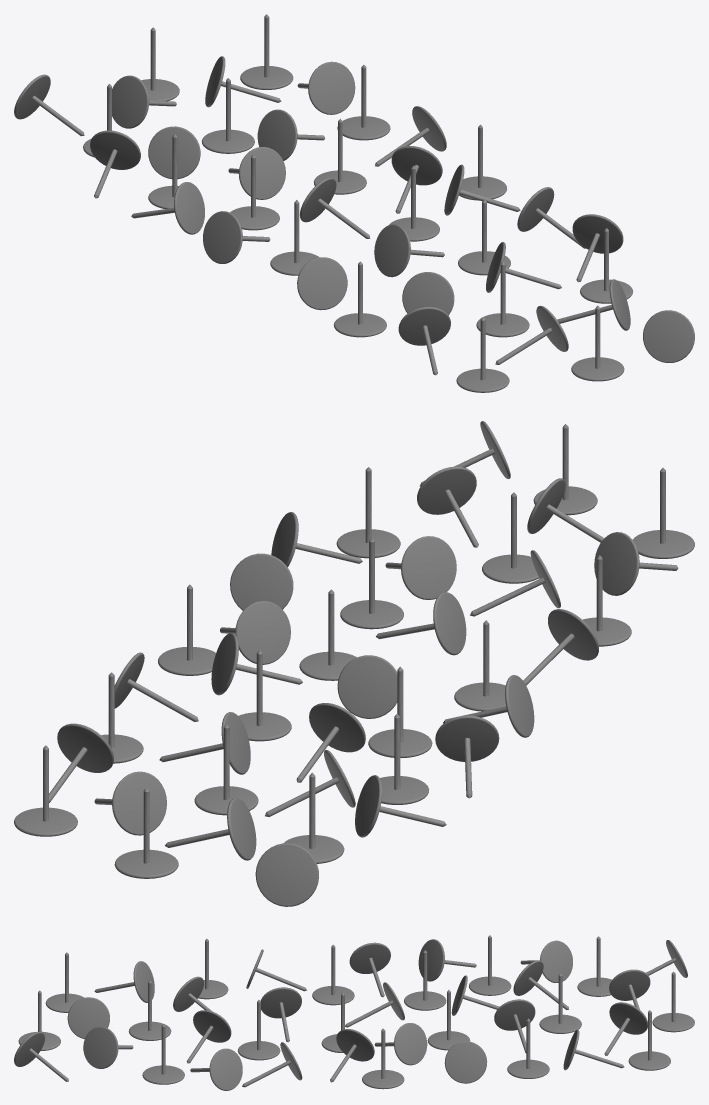
The model's file is itemClou.fbx.
3 views of the same model, one above another, from view 1: azimuth 30°, elevation 25°; view 2: azimuth 150°, elevation 25°; view 3: azimuth 270°, elevation 25° (orthographic). The views are drawn at different scales.
Visible parts, largest first — view 1: Circle.031, Circle.023, Circle.035, Circle.002, Circle.030, Circle.001, Circle.034, Circle.020, Circle.037, Circle.017, Circle.016, Circle.006 (+28 smaller); view 2: Circle.036, Circle.005, Circle.018, Circle.038, Circle.019, Circle.004, Circle.008, Circle.022, Circle.020, Circle.001, Circle.035, Circle.023 (+29 smaller); view 3: Circle.007, Circle.022, Circle.021, Circle.039, Circle.006, Circle.017, Circle.037, Circle.030, Circle.003, Circle.004, Circle.018, Circle.034 (+29 smaller).
Boxes of the visible parts, x1=… form: Circle.031: x1=643, y1=310, x2=694, y2=362; Circle.023: x1=297, y1=257, x2=347, y2=310; Circle.035: x1=297, y1=61, x2=355, y2=114; Circle.002: x1=148, y1=126, x2=200, y2=179; Circle.030: x1=203, y1=211, x2=270, y2=263; Circle.001: x1=228, y1=147, x2=285, y2=199; Circle.034: x1=112, y1=75, x2=176, y2=128; Circle.020: x1=398, y1=307, x2=450, y2=375; Circle.037: x1=90, y1=130, x2=140, y2=198; Circle.017: x1=374, y1=224, x2=444, y2=277; Circle.016: x1=402, y1=272, x2=454, y2=315; Circle.006: x1=391, y1=146, x2=442, y2=213; Circle.036: x1=255, y1=843, x2=318, y2=906; Circle.005: x1=337, y1=655, x2=397, y2=718; Circle.018: x1=385, y1=536, x2=456, y2=599; Circle.038: x1=220, y1=601, x2=290, y2=664; Circle.019: x1=230, y1=553, x2=293, y2=610; Circle.004: x1=94, y1=771, x2=166, y2=835; Circle.008: x1=435, y1=715, x2=499, y2=798; Circle.022: x1=417, y1=466, x2=478, y2=547; Circle.020: x1=594, y1=532, x2=678, y2=595; Circle.001: x1=296, y1=703, x2=365, y2=782; Circle.035: x1=49, y1=723, x2=113, y2=802; Circle.023: x1=523, y1=609, x2=598, y2=685; Circle.007: x1=444, y1=1041, x2=487, y2=1083; Circle.022: x1=83, y1=1026, x2=133, y2=1068; Circle.021: x1=67, y1=997, x2=109, y2=1038; Circle.039: x1=190, y1=1048, x2=242, y2=1090; Circle.006: x1=374, y1=1023, x2=427, y2=1065; Circle.017: x1=260, y1=987, x2=301, y2=1042; Circle.037: x1=520, y1=940, x2=572, y2=982; Circle.030: x1=349, y1=942, x2=390, y2=997; Circle.003: x1=494, y1=999, x2=535, y2=1053; Circle.004: x1=604, y1=1002, x2=647, y2=1055; Circle.018: x1=186, y1=1010, x2=231, y2=1063; Circle.034: x1=609, y1=969, x2=650, y2=1009.
Bounding box in the file's own units: 1495 × 278 × 3287.
1 material, 1 textured.
